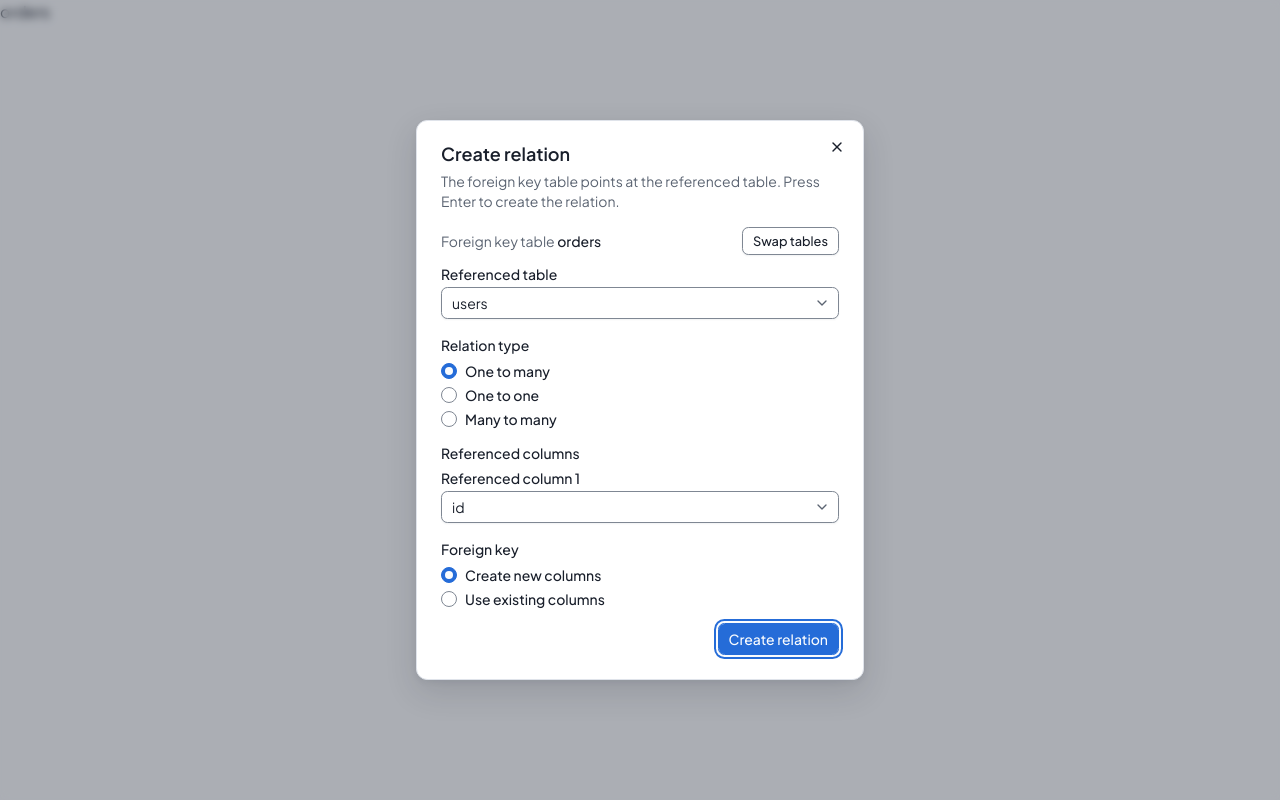
Test: CreateRelationDialog › swaps both tables
Click the button "Swap tables": (791, 241) [742,227,839,255]
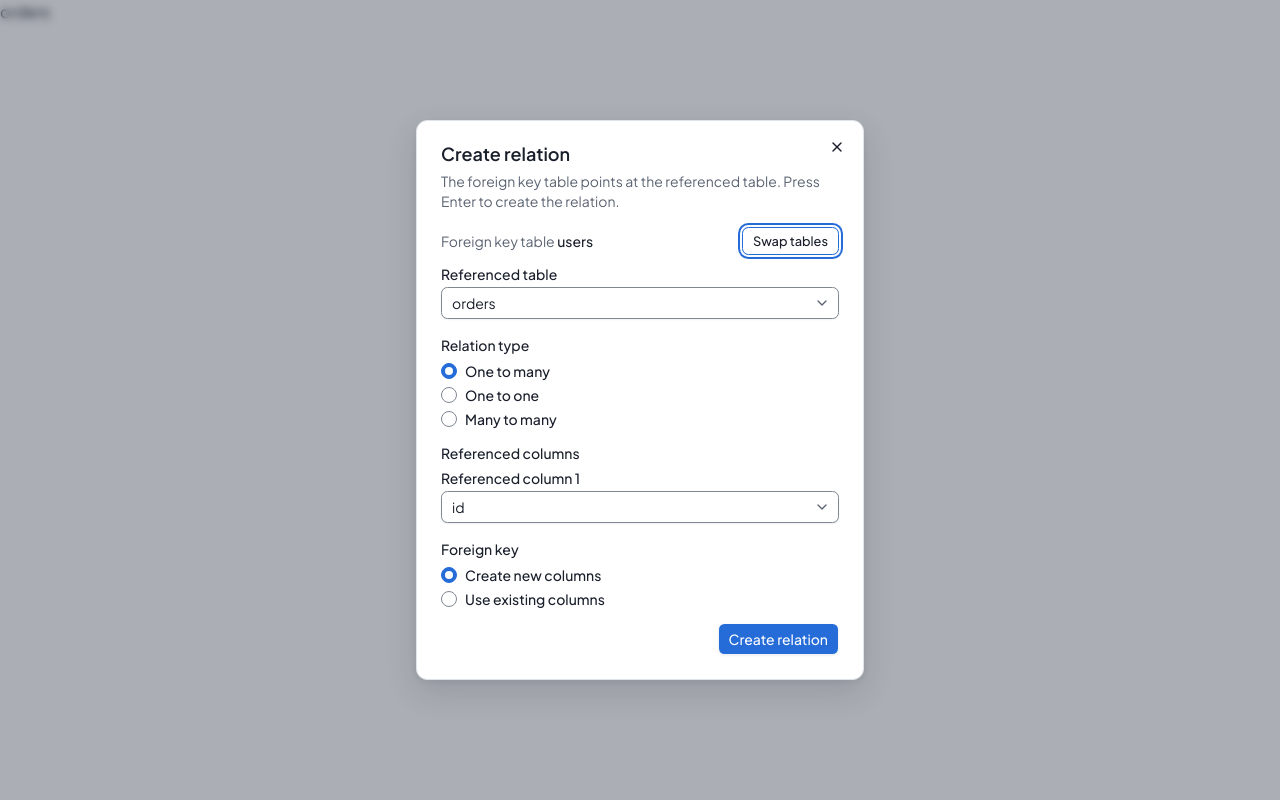
Now the text "users" is shown, box [557,232,593,250]
Now the dropdown named "Referenced table" reads "orders", box [441,287,839,319]
